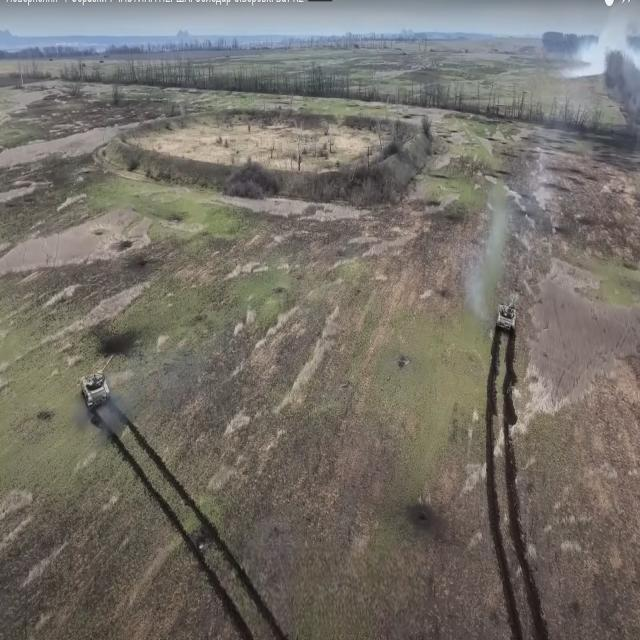MBT: (80, 351, 115, 415), (496, 298, 520, 339)
